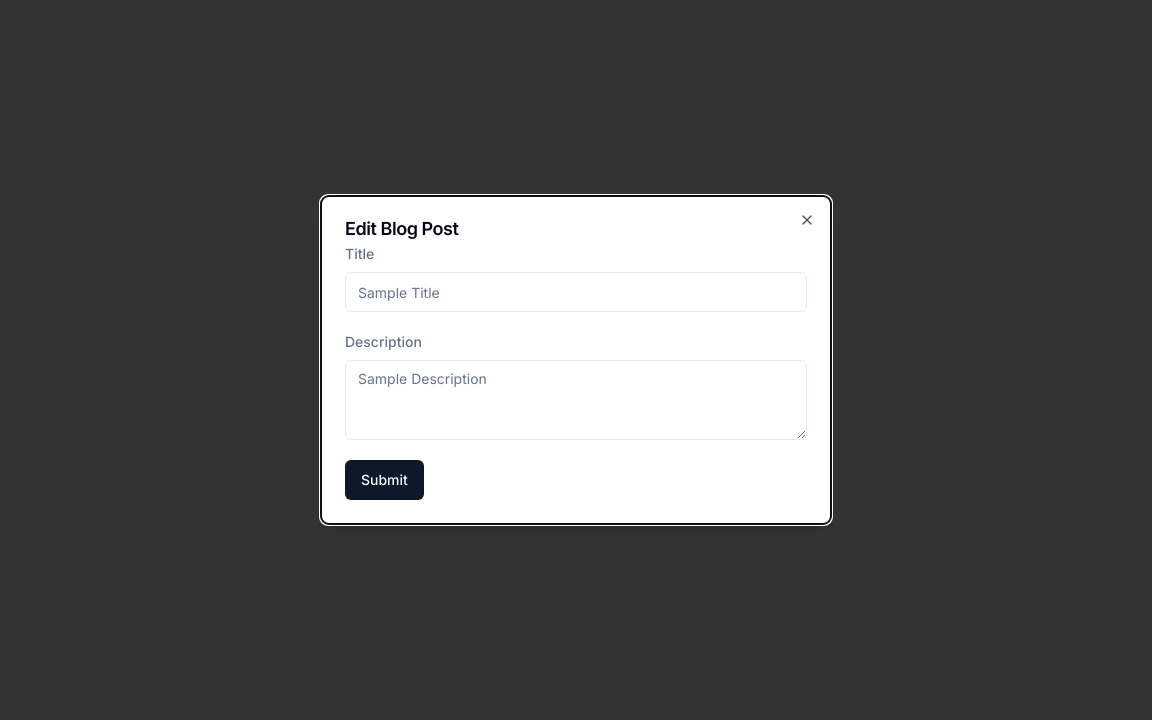
Test: EditPost › should display error messages when form submission fails
The width and height of the screenshot is (1152, 720).
Replace the text in the field labelled "Title" with "New Title": (576, 292) [345,272,807,312]
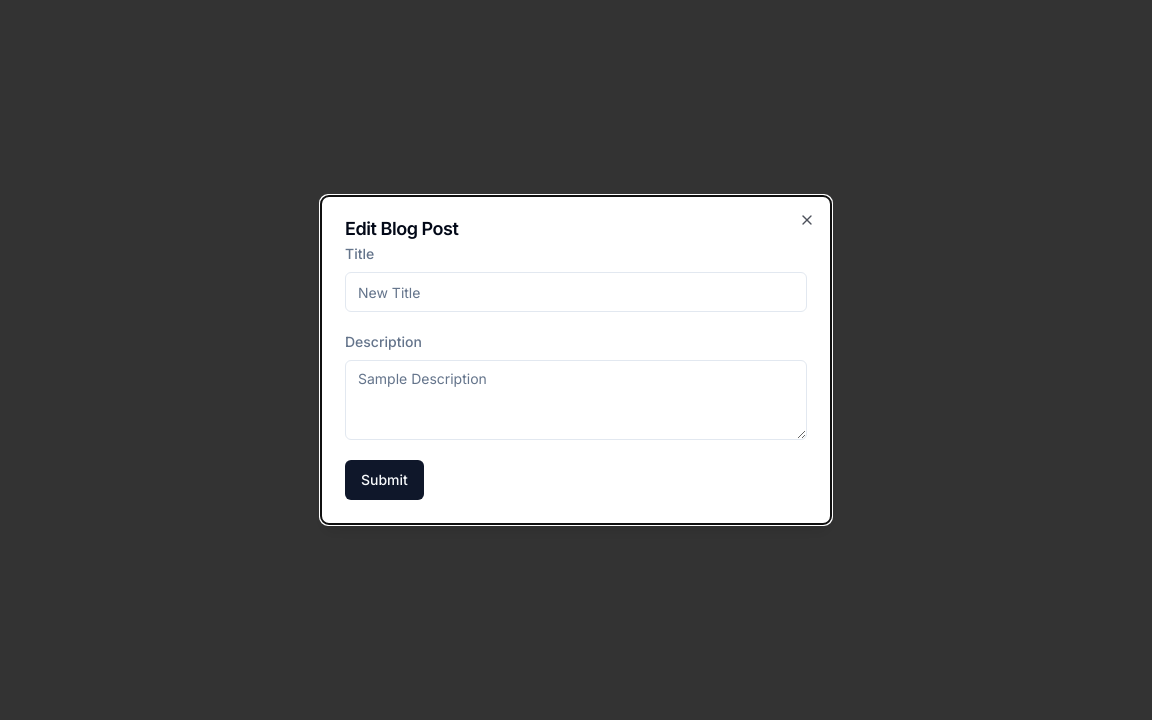
Replace the text in the text box labelled "Description" with "New Description": (576, 400) [345,360,807,440]
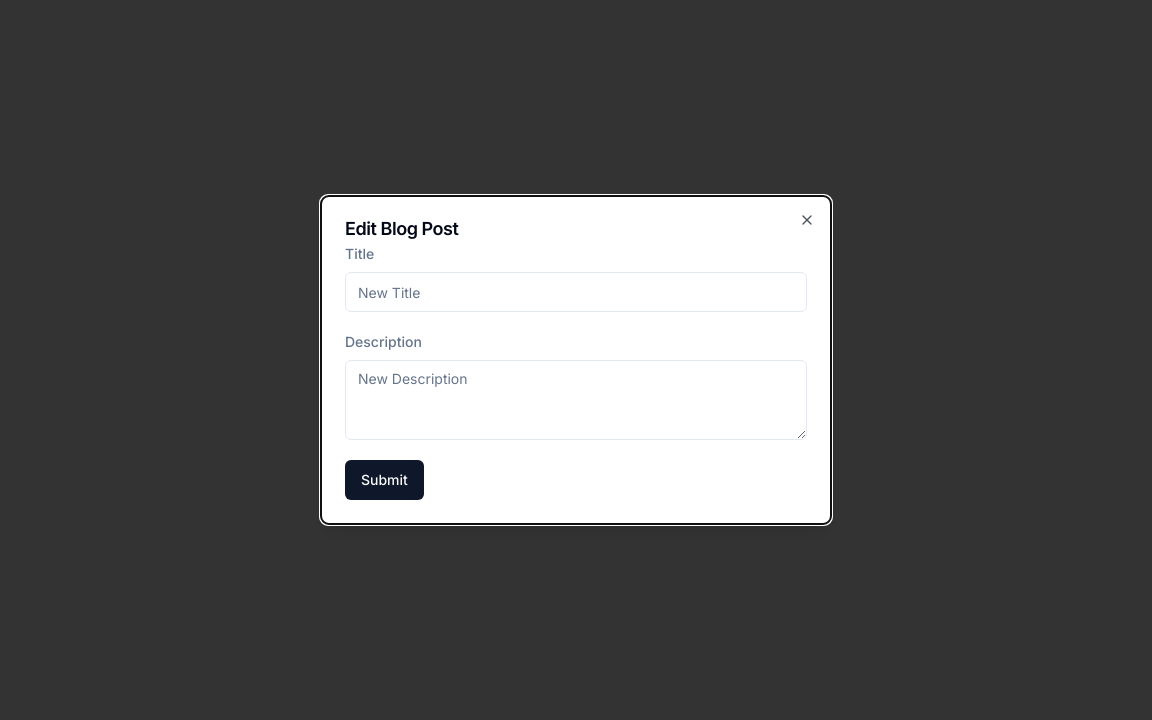
Click the button "Submit": (384, 480) [345,460,424,500]
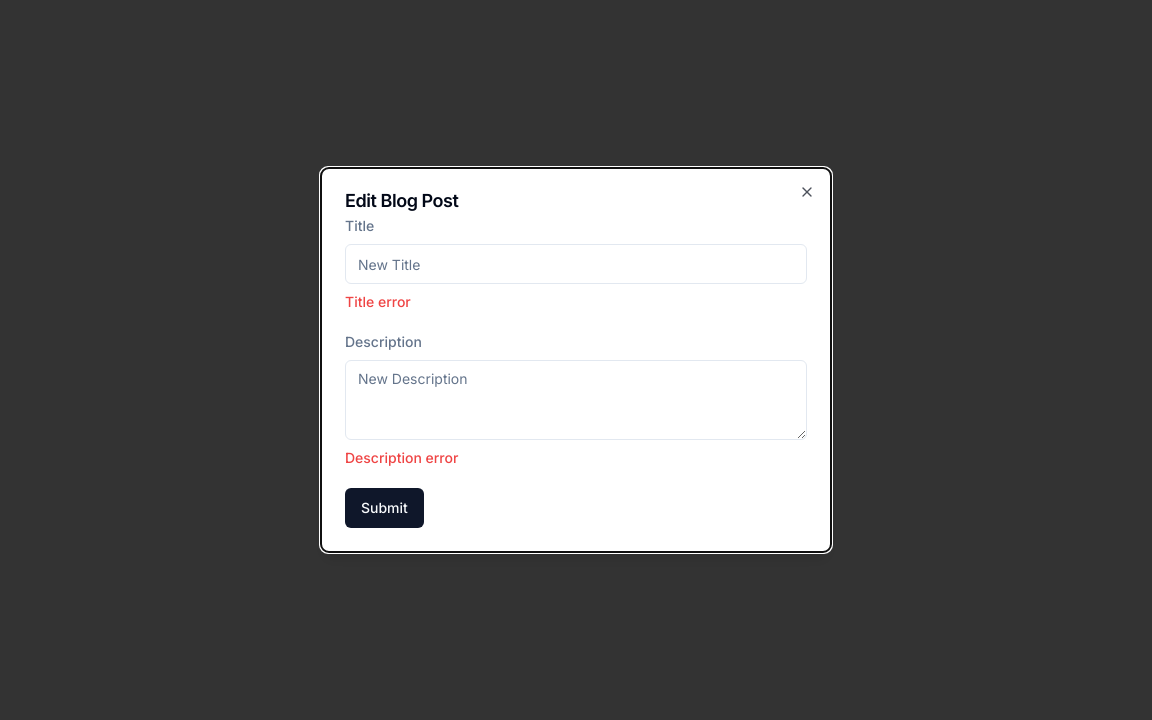
Result: the text "Title error" is shown at [345,293,411,310]
Result: the text "Description error" is shown at [345,449,458,466]
